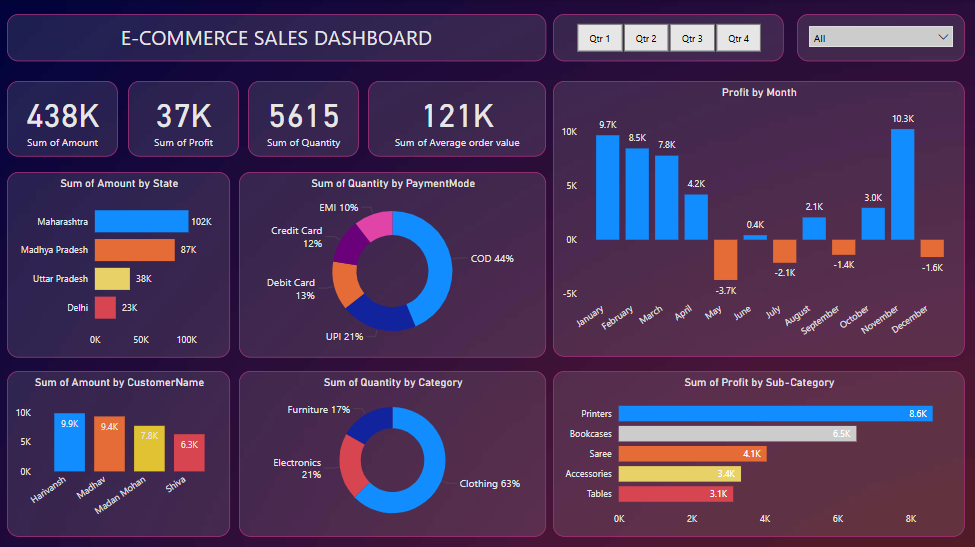

Layout of this report page (visuals, bound fields, positions):
{"tool":"powerbi","page":{"name":"Page 1","canvas":[1280,720],"ordinal":0},"visuals":[{"type":"columnChart","title":"Profit by Month","fields":{"Category":["Orders.Order Date.Variation.Date Hierarchy.Month"],"Y":["Details.Profit"]},"box":[725.8,106.6,538.6,361.4],"z":0},{"type":"barChart","fields":{"Category":["Details.Sub-Category"],"Y":["Details.Profit"]},"box":[725.8,485.3,538.6,217.4],"z":1000},{"type":"donutChart","fields":{"Category":["Details.Category"],"Y":["Details.Quantity"]},"box":[313.9,485.3,401.8,217.4],"z":2000},{"type":"donutChart","fields":{"Y":["Details.Quantity"],"Category":["Details.PaymentMode"]},"box":[313.9,224.6,401.8,243.4],"z":3000},{"type":"card","fields":{"Values":["Details.Amount"]},"box":[10.1,106.6,145.4,99.4],"z":4000},{"type":"barChart","fields":{"Category":["Orders.State"],"Y":["Details.Amount"]},"box":[10.1,224.6,292.3,243.4],"z":5000},{"type":"columnChart","fields":{"Category":["Orders.CustomerName"],"Y":["Details.Amount"]},"box":[10.1,485.3,292.3,217.4],"z":6000},{"type":"textbox","box":[10.1,18.7,705.6,61.9],"z":7000},{"type":"slicer","fields":{"Values":["Orders.Order Date.Variation.Date Hierarchy.Quarter"]},"box":[725.8,18.7,302.4,61.9],"z":8000},{"type":"slicer","fields":{"Values":["Orders.State"]},"box":[1044,18.7,220.3,61.9],"z":9000},{"type":"card","fields":{"Values":["Details.Profit"]},"box":[168.5,106.6,145.4,99.4],"z":10000},{"type":"card","fields":{"Values":["Details.Quantity"]},"box":[325.4,106.6,145.4,99.4],"z":11000},{"type":"card","fields":{"Values":["Details.Average order value"]},"box":[482.4,106.6,233.3,99.4],"z":12000}]}

Visuals, with their boxes in screenshot pixels (x1, y1, x2, y2), scaled from the page's 1280x720 canvas onto the 975x547 screenshot:
"Profit by Month" columnChart: [left=553, top=81, right=963, bottom=356]
barChart - Details.Sub-Category x Details.Profit: [left=553, top=369, right=963, bottom=534]
donutChart - Details.Category x Details.Quantity: [left=239, top=369, right=545, bottom=534]
donutChart - Details.Quantity x Details.PaymentMode: [left=239, top=171, right=545, bottom=356]
card - Details.Amount: [left=8, top=81, right=118, bottom=157]
barChart - Orders.State x Details.Amount: [left=8, top=171, right=230, bottom=356]
columnChart - Orders.CustomerName x Details.Amount: [left=8, top=369, right=230, bottom=534]
textbox: [left=8, top=14, right=545, bottom=61]
slicer - Orders.Order Date.Variation.Date Hierarchy.Quarter: [left=553, top=14, right=783, bottom=61]
slicer - Orders.State: [left=795, top=14, right=963, bottom=61]
card - Details.Profit: [left=128, top=81, right=239, bottom=157]
card - Details.Quantity: [left=248, top=81, right=359, bottom=157]
card - Details.Average order value: [left=367, top=81, right=545, bottom=157]
